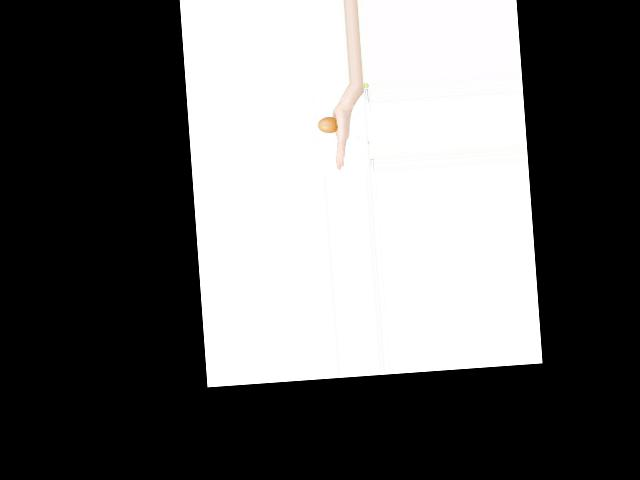egg: (317, 116, 338, 134)
